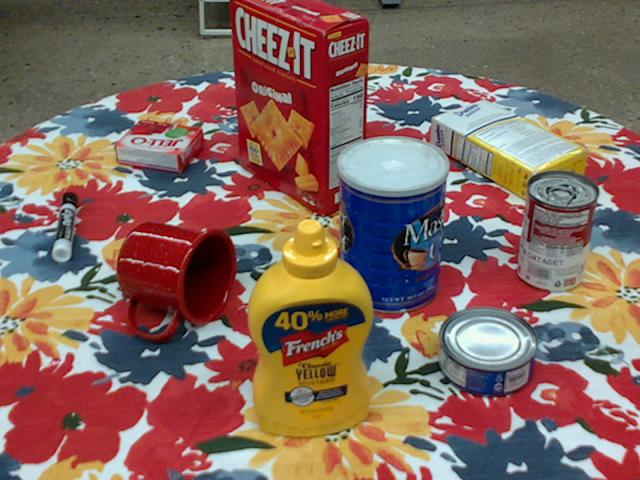cracker_box: (231, 0, 369, 212)
gelatin_box: (114, 120, 204, 173)
large_marker: (51, 191, 77, 261)
master_chef_can: (336, 136, 449, 315)
mug: (115, 221, 236, 339)
mustard_bottle: (246, 218, 372, 437)
potted_meat_can: (264, 45, 341, 120)
sugar_box: (431, 97, 589, 203)
tomato_soup_can: (519, 169, 598, 292)
tuna_fish_can: (436, 308, 536, 398)
